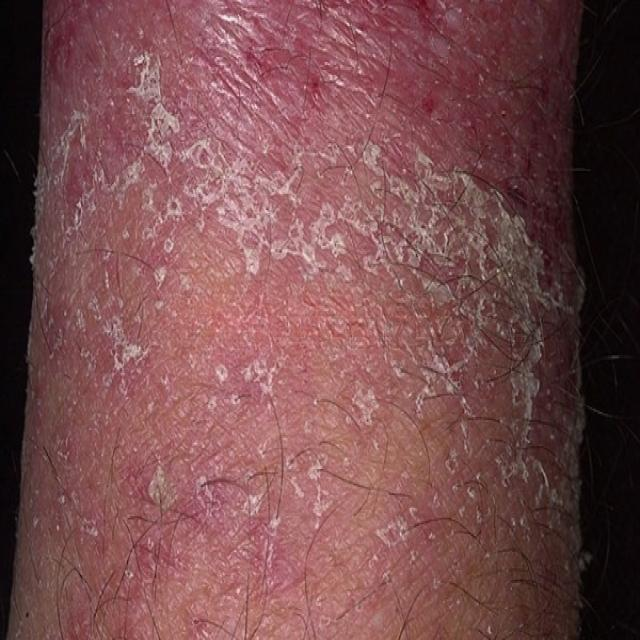Psoriasis Pustulosa: (7, 0, 583, 638)
